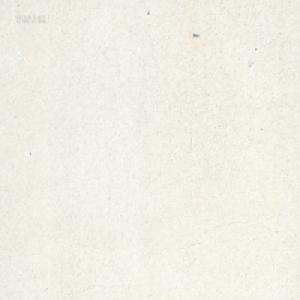Nail: (193, 32, 199, 37)
